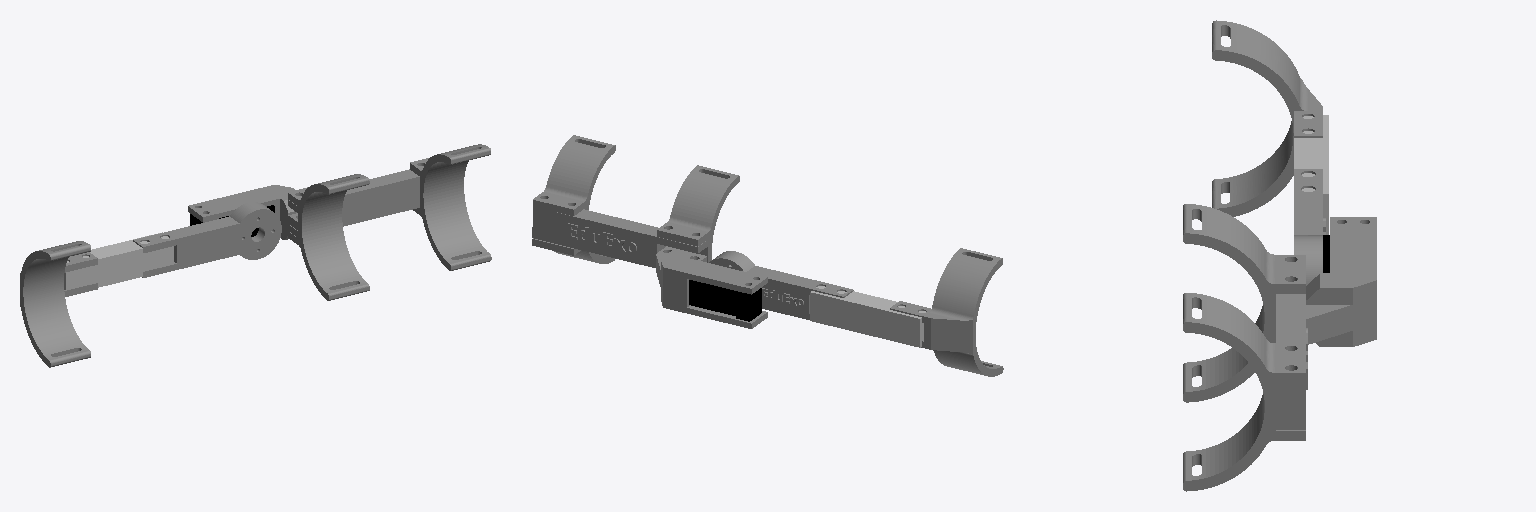
The robot description file, URDF, robot "balance":
<?xml version="1.0"?>
  <!-- The urdf model of eduexo robot arm, assign xyz movement on joint, assign rotation of link on link -->
<robot name="balance">
  <material name="omni/Blue">
    <color rgba="0 0 0.8 1"/>
  </material>
  <material name="omni/Red">
    <color rgba="1 0 0 1"/>
  </material>
  <material name="omni/Green">
    <color rgba="0 1 0 1"/>
  </material>
  <material name="omni/Yellow">
    <color rgba="1 1 0 1"/>
  </material>
  <material name="omni/LightGrey">
    <color rgba="0.6 0.6 0.6 1"/>
  </material>
  <material name="omni/DarkGrey">
    <color rgba="0.4 0.4 0.4 1"/>
  </material>
  <material name="omni/Black">
    <color rgba="0 0 0 1"/>
  </material>
  <material name="omni/Silver">
    <color rgba="0.75 0.75 0.75 1"/>
  </material>

  <link name="base_link">
    <inertial>
      <origin rpy="0 0 0" xyz="0 0 0 "/>
      <mass value="0"/>
      <inertia ixx="89.282" ixy="-0.47721" ixz="0.85562" iyy="107.51" iyz="0.0067576" izz="172.02"/>
    </inertial>
  </link>

  <joint name="base_motor" type="fixed">
    <parent link="base_link"/>
    <child link="motor"/>
    <origin rpy="-1.57 0 0" xyz="-0.05 0 0.30"/>
    <axis xyz="1 0 0"/>
  </joint>
  <link name="motor">
    <visual>
      <origin rpy="0 0 0" xyz="0 0 0"/>
      <geometry>
        <box size="0.40 0.20 0.20"/>
      </geometry>
      <material name="omni/Black"/>
    </visual>
  </link>

  <joint name="motor_adapter" type="fixed">
    <parent link="motor"/>
    <child link="motor_adapter"/>
    <origin rpy="0 0 0" xyz="0 -0.07 -0.30"/>
    <axis xyz="1 0 0"/>
  </joint>
  <link name="motor_adapter">
    <visual>
      <origin rpy="0 0 0" xyz="0 0 0"/>
      <geometry>
        <mesh filename="urdf/EduExo_STL_files/small_motor_adapter.stl"/>
      </geometry>
      <material name="omni/LightGrey"/>
    </visual>
  </link>

  <joint name="motor_extendJoint" type="fixed">
    <parent link="motor"/>
    <child link="motor_extend"/>
    <origin rpy="0 0 0" xyz="-0.25 0 0.05"/>
    <axis xyz="1 0 0"/>
  </joint>
  <link name="motor_extend">
    <visual>
      <origin rpy="0 0 0" xyz="0 0 0"/>
      <geometry>
        <box size="0.10 0.20 0.15"/>
      </geometry>
      <material name="omni/Black"/>
    </visual>
  </link>

  <joint name="adapter_upper_joint" type="fixed">
    <parent link="motor_adapter"/>
    <child link="upper_arm"/>
    <origin rpy="0 0 0" xyz="0.25 0.12 0"/>
    <axis xyz="1 0 0"/>
  </joint>
  <link name="upper_arm">
    <visual>
      <origin rpy="1.57 -1.57 1.57" xyz="0 0 0"/>
      <geometry>
        <mesh filename="urdf/EduExo_STL_files/small_upper_arm.stl"/>
      </geometry>
        <material name="omni/LightGrey"/>
    </visual>
  </link>

  <joint name="arm_cuff0" type="fixed">
    <parent link="upper_arm"/>
    <child link="upper_cuff0"/>
    <origin rpy="0 0 0" xyz="0.30 0.05 -0.05"/>
    <axis xyz="1 0 0"/>
  </joint>
  <link name="upper_cuff0">
    <visual>
      <origin rpy="1.57 -1.57 1.57" xyz="0 0 0"/>
      <geometry>
        <mesh filename="urdf/EduExo_STL_files/EduExoCuffs/small_upper_arm_cuff_70.stl"/>
      </geometry>
        <material name="omni/LightGrey"/>
    </visual>
  </link>


  <joint name="arm_cuff1" type="fixed">
    <parent link="upper_arm"/>
    <child link="upper_cuff1"/>
    <origin rpy="0 0 0" xyz="1.20 0.05 -0.05"/>
    <axis xyz="1 0 0"/>
  </joint>
  <link name="upper_cuff1">
    <visual>
      <origin rpy="1.57 -1.57 1.57" xyz="0 0 0"/>
      <geometry>
        <mesh filename="urdf/EduExo_STL_files/EduExoCuffs/small_upper_arm_cuff_70.stl"/>
      </geometry>
        <material name="omni/LightGrey"/>
    </visual>
  </link>

  <joint name="motor_sensorAdapter" type="revolute">
    <parent link="motor"/>
    <child link="sensor_adapter"/>
    <dynamics damping="3.0" friction="0.3"/>
    <limit effort="30.0" lower="-3.1415926535" upper="3.1415926535" velocity="5.0"/>
    <origin rpy="0 0 0" xyz="0 0 -0.10"/>
    <axis xyz="0 0 1"/>
  </joint>
  <link name="sensor_adapter">
    <visual>
      <origin rpy="3.14 0 0" xyz="0 0 0"/>
      <geometry>
        <mesh filename="urdf/EduExo_STL_files/small_interface.stl"/>
      </geometry>
      <material name="omni/LightGrey"/>
    </visual>
  </link>

  <joint name="sensorAdapter_sensor" type="fixed">
    <parent link="sensor_adapter"/>
    <child link="sensor"/>
    <origin rpy="0 0 0" xyz="-1.02 0 -0.05"/>
    <axis xyz="1 0 0"/>
  </joint>
  <link name="sensor">
    <visual>
      <origin rpy="0 0 0" xyz="0 0 0"/>
      <geometry>
        <box size="0.80 0.20 0.15"/>
      </geometry>
      <material name="omni/Silver"/>
    </visual>
  </link>

  <joint name="sensor_lowerArm" type="fixed">
    <parent link="sensor"/>
    <child link="lower_arm"/>
    <origin rpy="0 0 0" xyz="0 0 0"/>
    <axis xyz="1 0 0"/>
  </joint>
  <link name="lower_arm">
    <visual>
      <origin rpy="3.14 0 0" xyz="0.10 0 0.05"/>
      <geometry>
        <mesh filename="urdf/EduExo_STL_files/small_lower_arm.stl"/>
      </geometry>
      <material name="omni/LightGrey"/>
    </visual>
  </link>

</robot>

--- Render facts (derived) ---
3 views of the same robot in one strip: view 1: azimuth 30°, elevation 25°; view 2: azimuth 150°, elevation 25°; view 3: azimuth 270°, elevation 25° (orthographic).
Model balance with 10 links and 9 joints (1 revolute, 8 fixed), rooted at base_link, posed all joints at 0.
Visible links, largest first — view 1: lower_arm, upper_cuff0, upper_cuff1, sensor_adapter, upper_arm, sensor, motor_adapter; view 2: lower_arm, upper_arm, upper_cuff1, motor_adapter, sensor, upper_cuff0, sensor_adapter, motor, motor_extend; view 3: upper_cuff1, upper_cuff0, lower_arm, motor_adapter, upper_arm, sensor_adapter, sensor.
Link boxes in pixels (x1=…): lower_arm: x1=20, y1=241, x2=97, y2=367; upper_cuff0: x1=288, y1=174, x2=369, y2=300; upper_cuff1: x1=410, y1=144, x2=491, y2=270; sensor_adapter: x1=133, y1=202, x2=281, y2=277; upper_arm: x1=288, y1=169, x2=419, y2=237; sensor: x1=64, y1=232, x2=173, y2=289; motor_adapter: x1=188, y1=185, x2=297, y2=239; lower_arm: x1=890, y1=248, x2=1003, y2=376; upper_arm: x1=532, y1=207, x2=707, y2=267; upper_cuff1: x1=532, y1=135, x2=615, y2=263; motor_adapter: x1=656, y1=246, x2=767, y2=328; sensor: x1=810, y1=286, x2=925, y2=347; upper_cuff0: x1=657, y1=165, x2=739, y2=262; sensor_adapter: x1=709, y1=251, x2=853, y2=319; motor: x1=689, y1=280, x2=735, y2=315; motor_extend: x1=736, y1=288, x2=761, y2=321; upper_cuff1: x1=1183, y1=293, x2=1305, y2=491; upper_cuff0: x1=1183, y1=204, x2=1305, y2=402; lower_arm: x1=1212, y1=20, x2=1322, y2=216; motor_adapter: x1=1306, y1=217, x2=1376, y2=346; upper_arm: x1=1276, y1=294, x2=1307, y2=429; sensor_adapter: x1=1294, y1=169, x2=1325, y2=285; sensor: x1=1294, y1=115, x2=1328, y2=234.
Bounding box of the posed robot: 3.18 × 0.83 × 0.8586 m (x, y, z).
Meshes: 5 distinct files referenced, 6 mesh visuals loaded (5 binary STL).